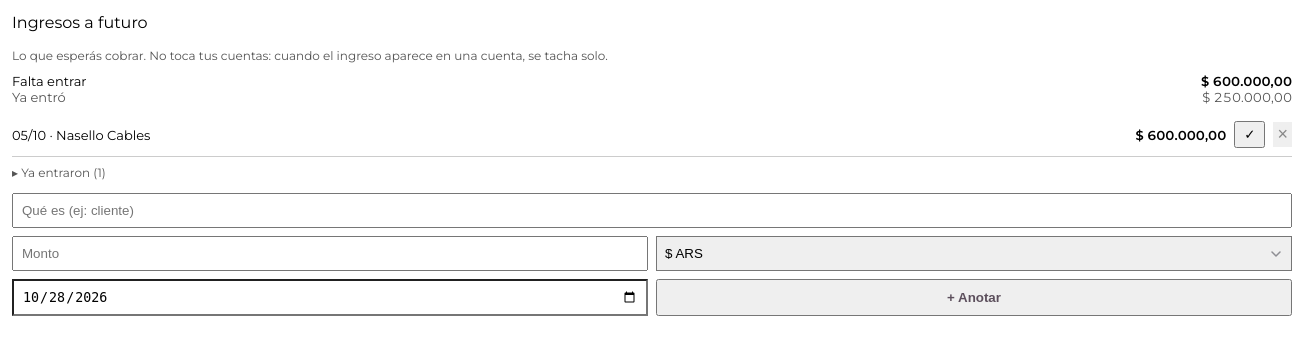
it: un monto que no es número no se guarda
This screenshot has width=1304, height=356.
expect the text "05/10 · Nasello Cables" is shown: met, box [12, 126, 150, 142]
Type "Algo" into the field labelled "Qué es" at (652, 210), box [12, 193, 1292, 228]
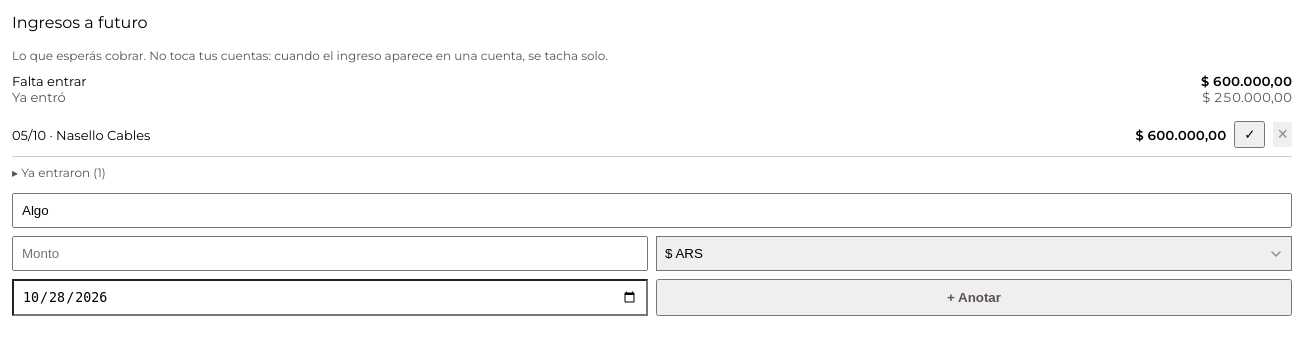
Type "mucho" into the field named "Monto esperado" at (330, 254), box [12, 236, 648, 271]
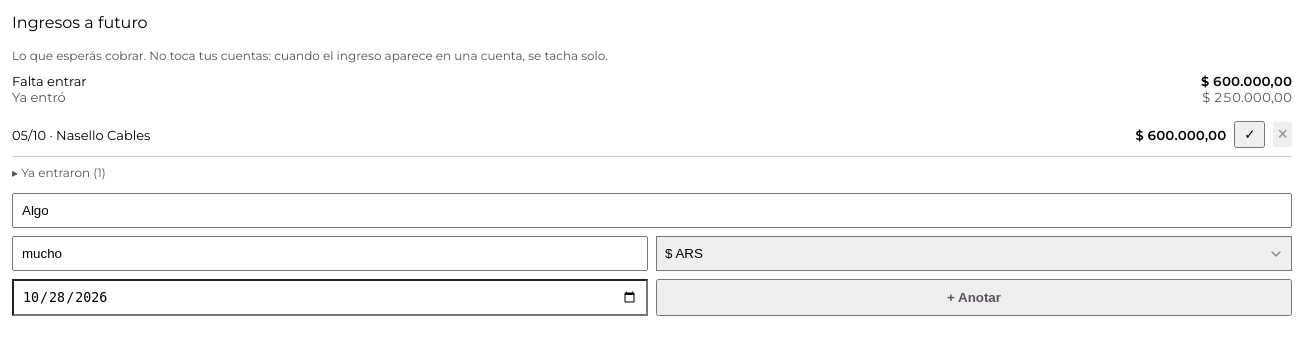
Click the button "+ Anotar" at (974, 298), box [656, 279, 1292, 316]
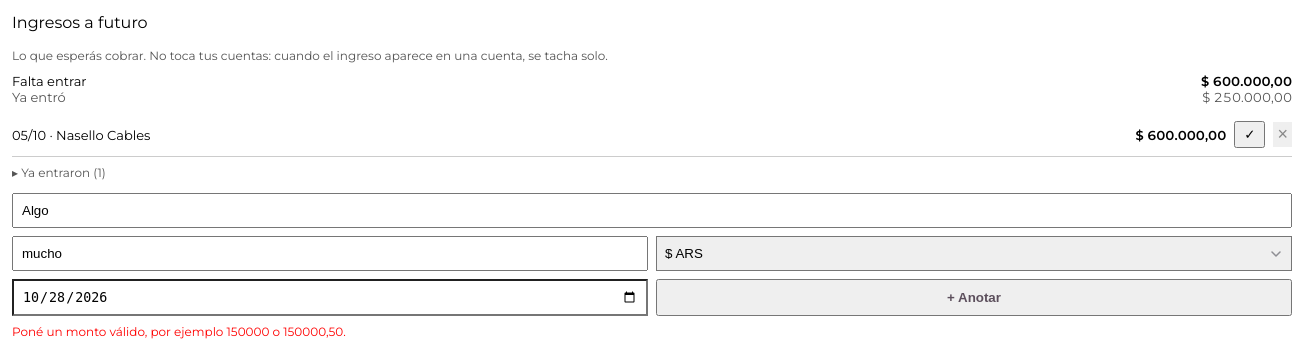
expect the text "Poné un monto válido, por ejemplo 150000 o 150000,50." is shown: met, box [12, 324, 346, 339]
